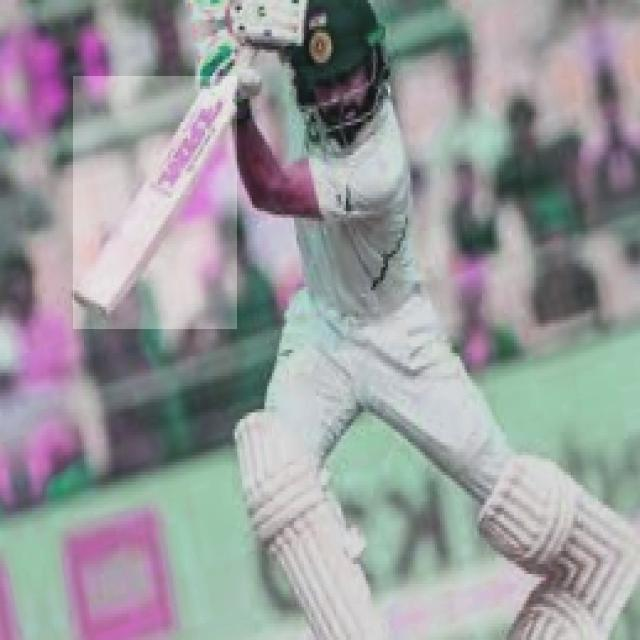bat: (72, 78, 235, 330)
toe: (72, 294, 115, 321)
